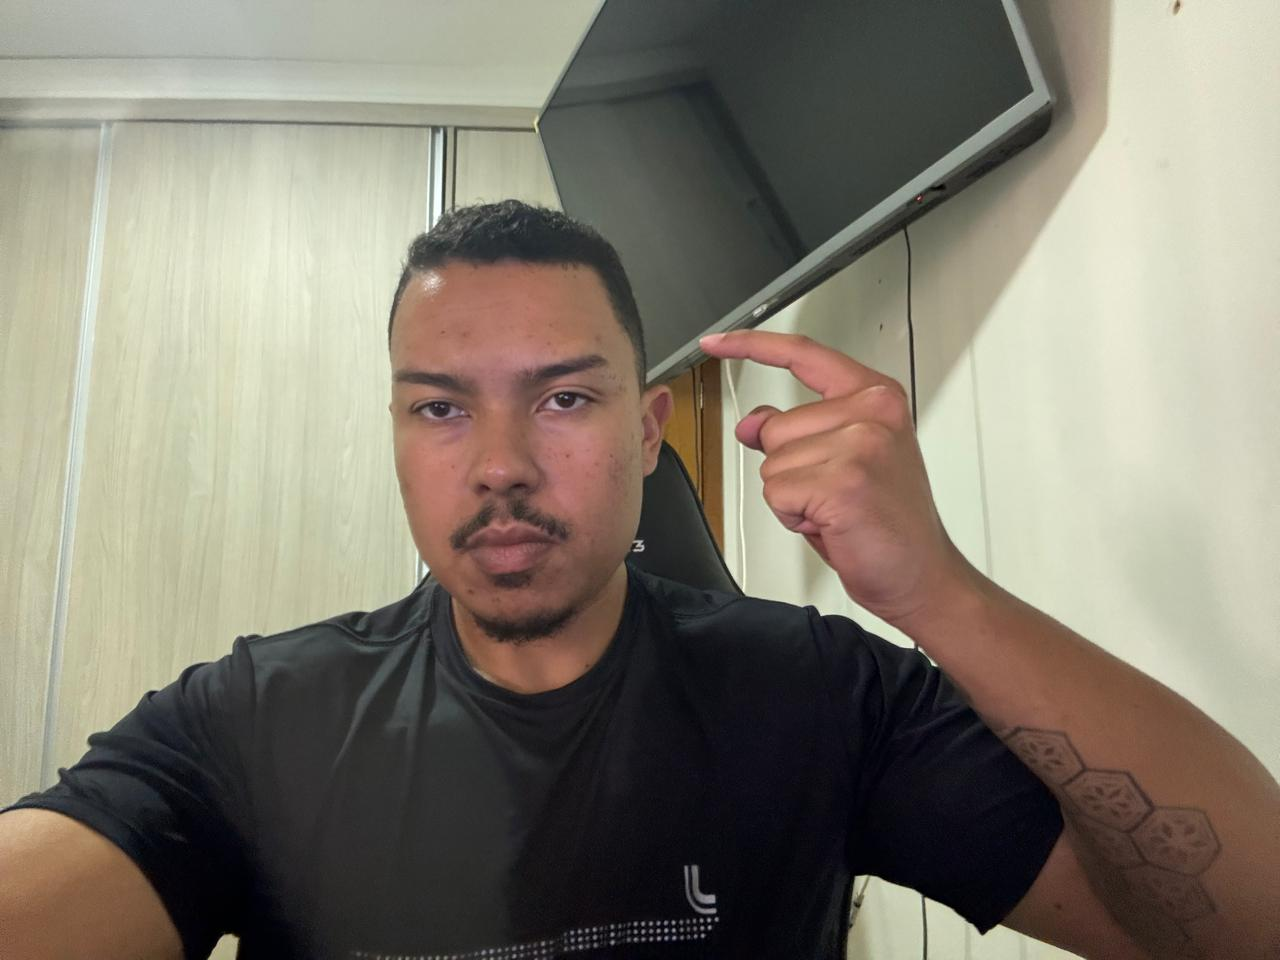x: (691, 322, 953, 642)
